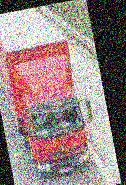truck: (0, 1, 103, 184)
